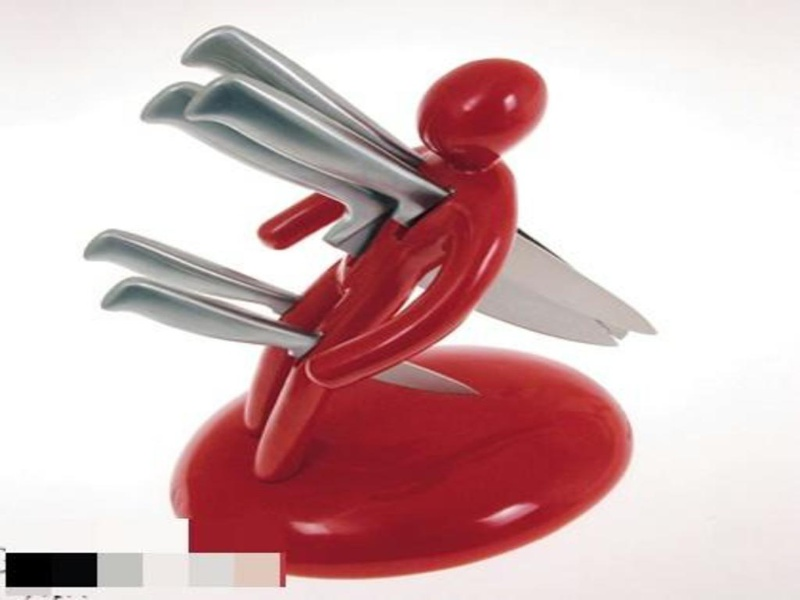knife: (139, 23, 666, 353), (75, 220, 484, 397), (101, 279, 491, 399)
